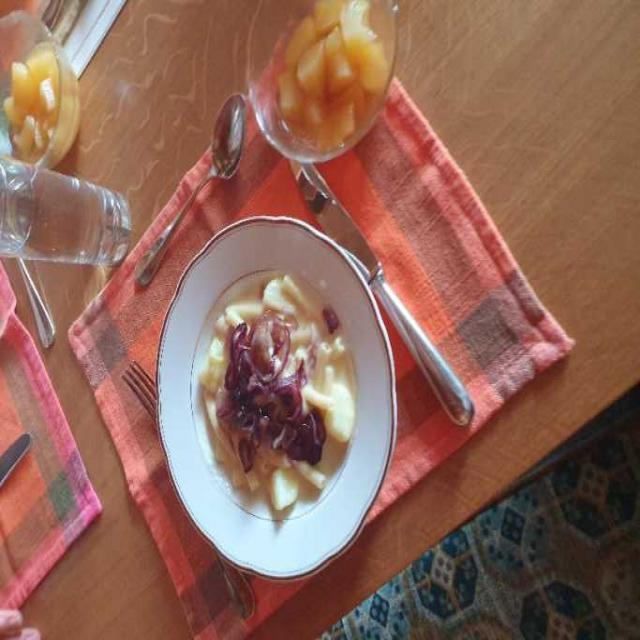applesauce: (262, 6, 398, 149), (256, 9, 390, 135)
onion: (217, 316, 334, 470)
pasta: (197, 267, 360, 549), (195, 282, 336, 500)
potatoes: (192, 281, 344, 535)
